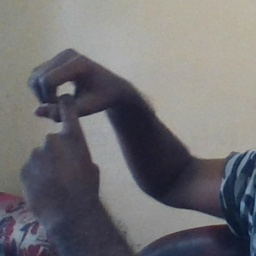Q: (17, 48, 116, 198)
